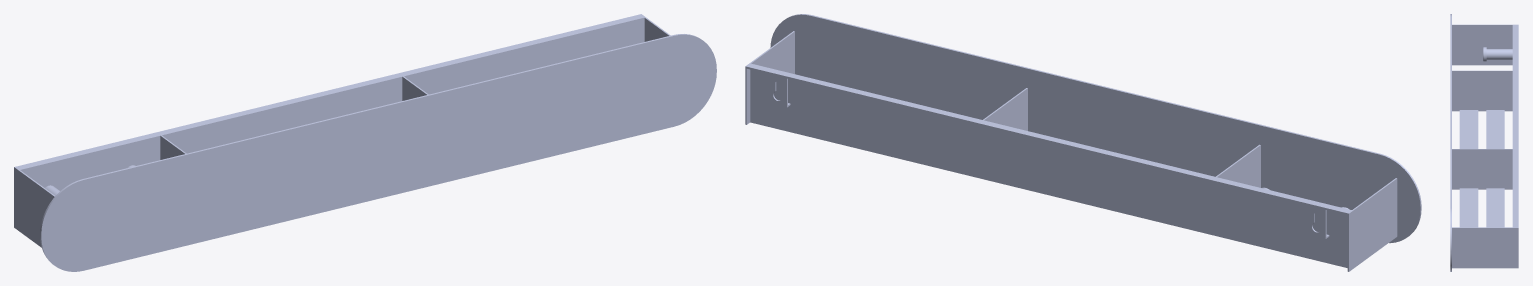
Rendered from round-patron.a15228722e.glb.
The picture shows the model from 3 angles, left to right: view 1: azimuth 30°, elevation 25°; view 2: azimuth 150°, elevation 25°; view 3: azimuth 270°, elevation 25°; orthographic projection. The views are drawn at different scales.
Parts seen in each view (by area): view 1: NAUO1; view 2: NAUO1; view 3: NAUO1.
Part boxes in pixels (x1,y1,x2,y2): NAUO1: [14, 14, 716, 271]; NAUO1: [745, 14, 1421, 271]; NAUO1: [1450, 14, 1518, 271].
Size of the model in its own units: 0.7 by 0.09 by 0.092.
